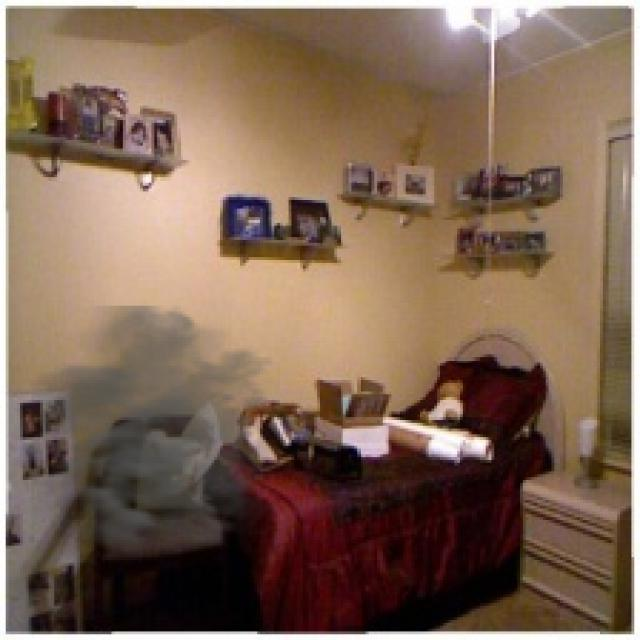Smoke: (31, 306, 300, 572)
